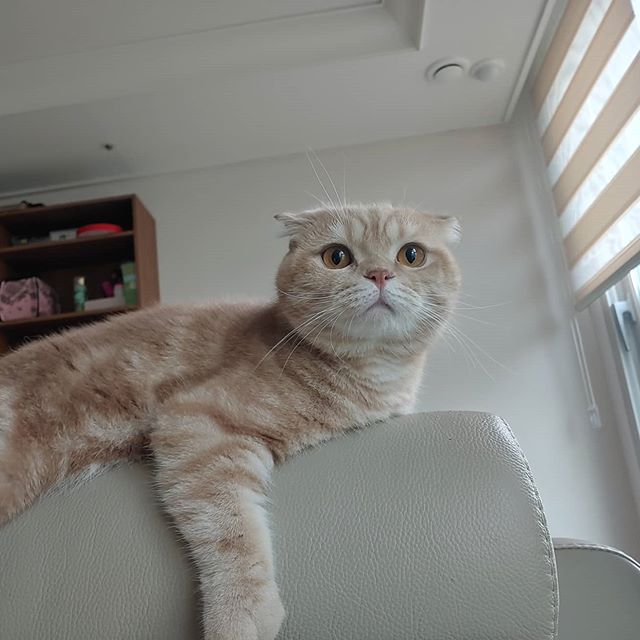cat: (274, 191, 465, 382)
